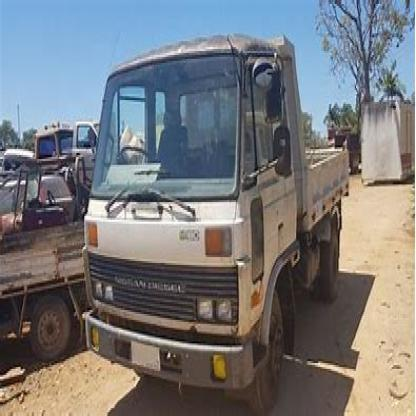dump_truck: (77, 16, 345, 394)
